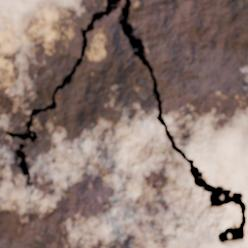brick: (0, 0, 240, 247), (128, 0, 247, 247), (0, 0, 105, 131)
crack: (118, 0, 246, 247), (0, 0, 121, 194)
